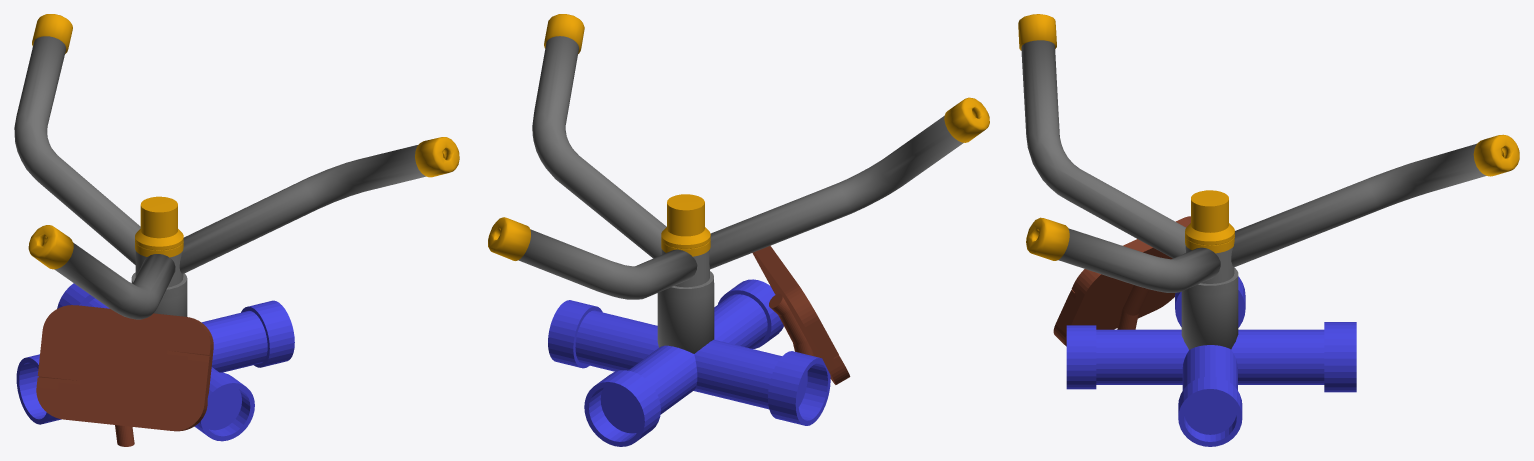
File: FiskiyeLevel2.fbx
The picture shows the model from 3 angles, left to right: view 1: azimuth 30°, elevation 25°; view 2: azimuth 150°, elevation 25°; view 3: azimuth 270°, elevation 25°; orthographic projection. The views are drawn at different scales.
Visible parts, largest first — view 1: Cylinder.014, 18512_Rotary_Sprinkler_v1.003, Cylinder.012, 18512_Rotary_Sprinkler_v1.002, 18512_Rotary_Sprinkler_v1.001, 18512_Rotary_Sprinkler_v1; view 2: Cylinder.012, 18512_Rotary_Sprinkler_v1.001, 18512_Rotary_Sprinkler_v1.003, 18512_Rotary_Sprinkler_v1.002, 18512_Rotary_Sprinkler_v1, Cylinder.014; view 3: Cylinder.012, 18512_Rotary_Sprinkler_v1.001, 18512_Rotary_Sprinkler_v1.002, 18512_Rotary_Sprinkler_v1.003, 18512_Rotary_Sprinkler_v1, Cylinder.014.
Part boxes in pixels (x1,y1,x2,y2): Cylinder.014: (36, 305, 213, 446); 18512_Rotary_Sprinkler_v1.003: (179, 137, 459, 273); Cylinder.012: (16, 283, 294, 441); 18512_Rotary_Sprinkler_v1.002: (14, 14, 140, 264); 18512_Rotary_Sprinkler_v1.001: (28, 225, 175, 319); 18512_Rotary_Sprinkler_v1: (131, 196, 187, 316); Cylinder.012: (548, 279, 830, 446); 18512_Rotary_Sprinkler_v1.001: (709, 97, 989, 269); 18512_Rotary_Sprinkler_v1.003: (532, 14, 666, 258); 18512_Rotary_Sprinkler_v1.002: (488, 217, 697, 299); 18512_Rotary_Sprinkler_v1: (657, 194, 714, 353); Cylinder.014: (752, 245, 850, 384); Cylinder.012: (1066, 276, 1356, 446); 18512_Rotary_Sprinkler_v1.001: (1018, 14, 1185, 258); 18512_Rotary_Sprinkler_v1.002: (1231, 134, 1519, 267); 18512_Rotary_Sprinkler_v1.003: (1026, 217, 1220, 292); 18512_Rotary_Sprinkler_v1: (1181, 190, 1238, 349); Cylinder.014: (1053, 216, 1190, 346).
Size of the model in its own units: 7.8 by 4.78 by 7.72.
